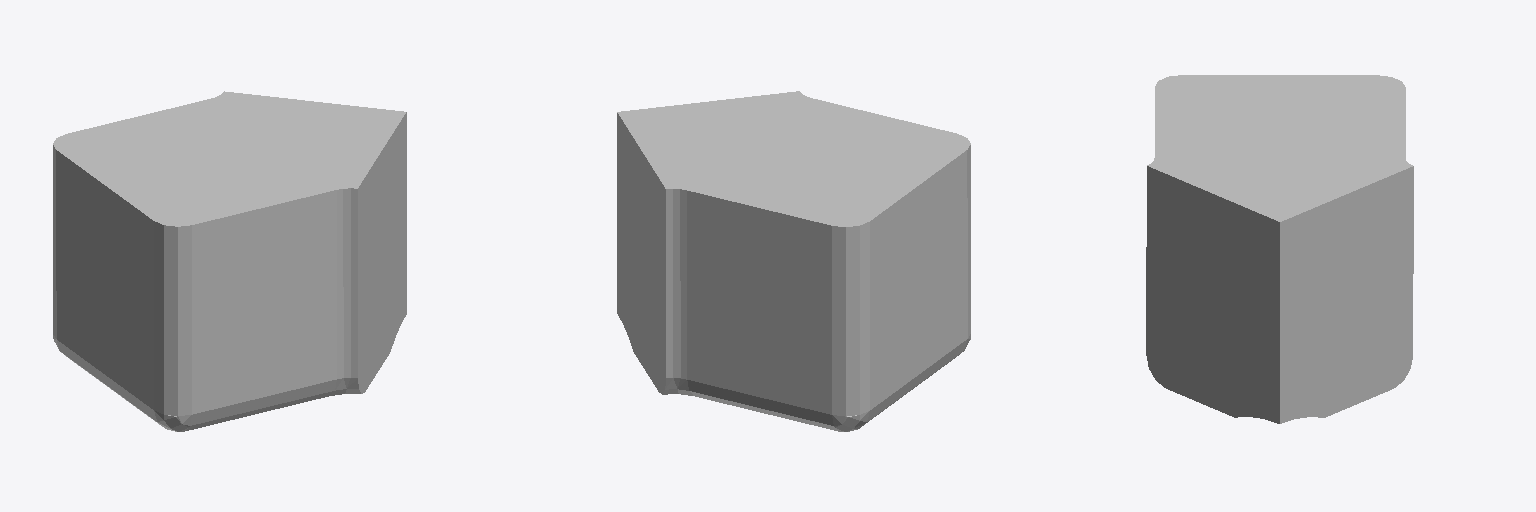
Rendered from DPadLeft.obj.
The picture shows the model from 3 angles: view 1: azimuth 30°, elevation 25°; view 2: azimuth 150°, elevation 25°; view 3: azimuth 270°, elevation 25°; orthographic projection.
Parts seen in each view (by area): view 1: DPadLeft; view 2: DPadLeft; view 3: DPadLeft.
Boxes of the visible parts, <box> form: DPadLeft: <box>53,91,406,431</box>; DPadLeft: <box>617,91,970,431</box>; DPadLeft: <box>1146,75,1413,423</box>.
Bounding box in the file's own units: 12.5 × 8.52 × 9.6.